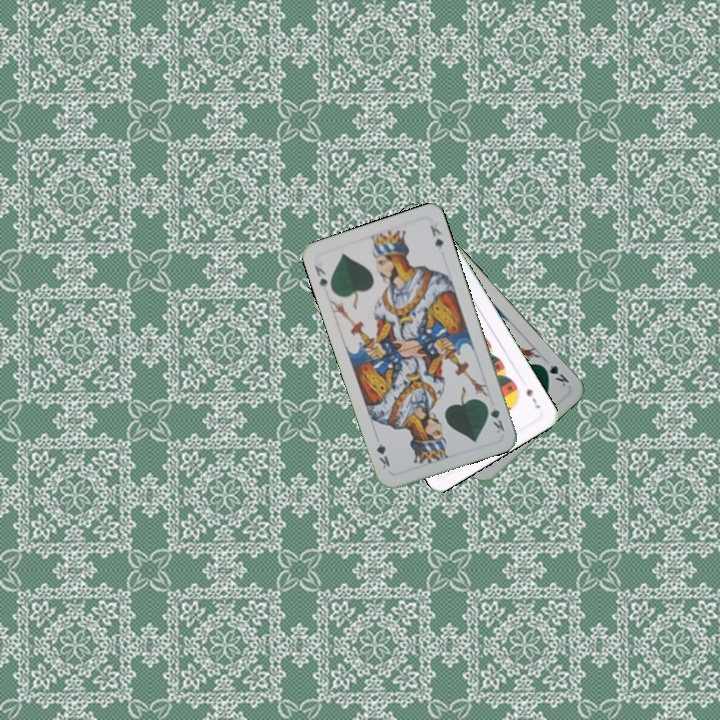GK: (537, 355, 572, 389), (482, 399, 507, 436), (310, 261, 330, 290)
S7: (522, 384, 543, 411)
